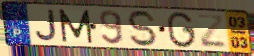9: (98, 9, 124, 46)
G: (166, 11, 197, 50)
J: (34, 9, 59, 43)
M: (57, 8, 95, 45)
S: (125, 9, 160, 48)
Z: (195, 13, 228, 49)
